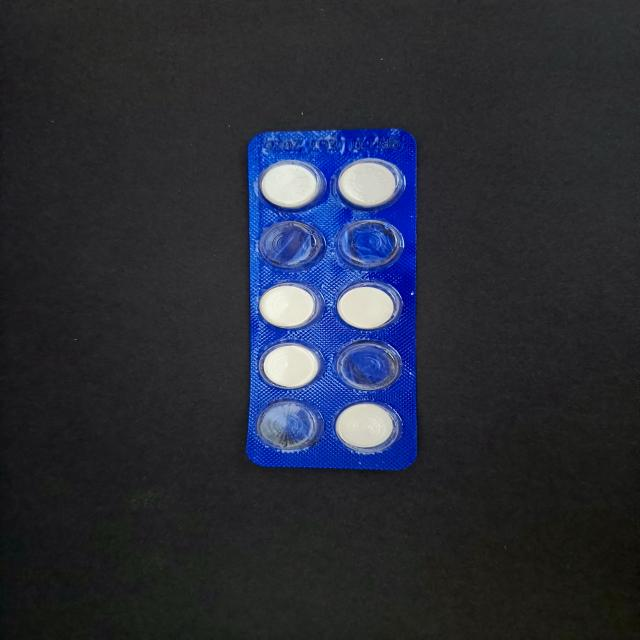defect: (334, 218, 406, 274), (255, 398, 328, 453), (332, 338, 406, 392), (256, 220, 328, 273)
